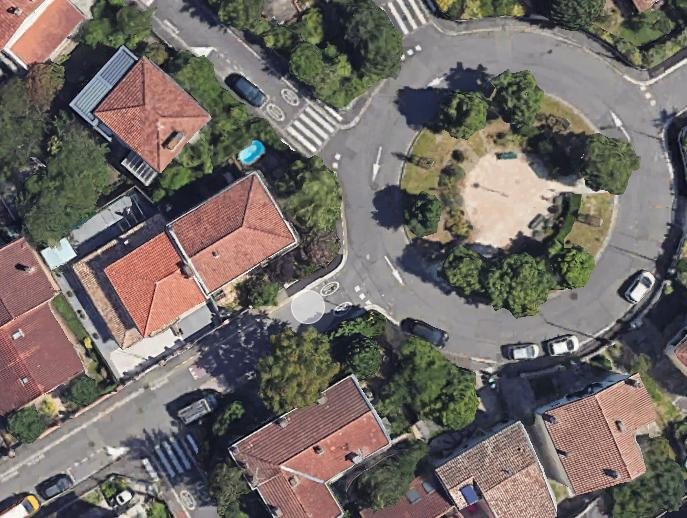maison: (226, 375, 410, 518), (519, 361, 677, 511), (69, 216, 207, 354), (165, 171, 298, 294), (0, 235, 87, 414), (92, 55, 211, 173), (428, 416, 562, 518), (0, 0, 83, 64), (361, 477, 453, 517), (666, 335, 686, 376)
